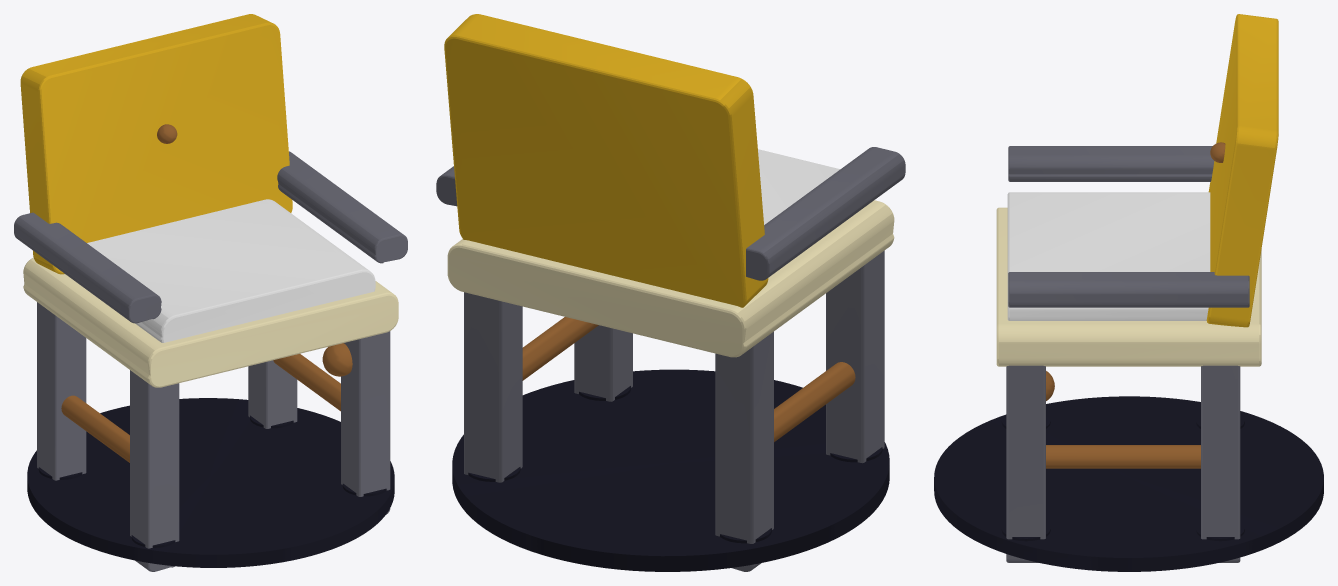
The model's file is 0960_农业科技图鉴_丽蚜小蜂蜂卡.glb.
3 renders of one model, left to right at view 1: azimuth 30°, elevation 25°; view 2: azimuth 150°, elevation 25°; view 3: azimuth 270°, elevation 25°, orthographic. The views are drawn at different scales.
Visible parts, largest first — view 1: card_0960; view 2: card_0960; view 3: card_0960.
Boxes of the visible parts, x1,y1,x2,y2 form: card_0960: (14, 14, 407, 571); card_0960: (436, 14, 905, 571); card_0960: (934, 14, 1323, 571).
Bounding box in the file's own units: 0.8006 × 1 × 0.8153.
